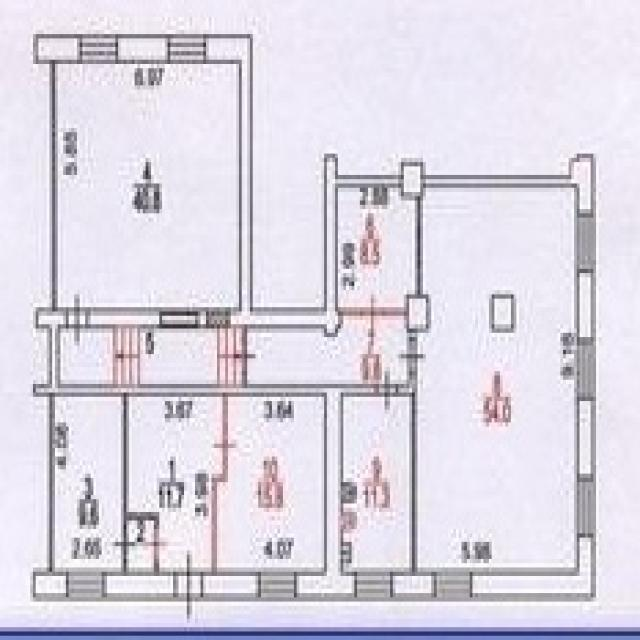Corridors: (248, 319, 405, 381), (142, 330, 216, 381), (61, 330, 111, 382), (130, 522, 153, 565)
Doors: (171, 549, 205, 625), (395, 331, 428, 383), (357, 287, 385, 346), (211, 416, 238, 472), (112, 520, 137, 570), (67, 290, 88, 346), (375, 368, 400, 415), (241, 326, 260, 387), (142, 523, 168, 567), (159, 308, 197, 328)
LBwalls: (198, 63, 345, 338), (296, 395, 356, 603), (471, 538, 598, 604), (105, 567, 173, 600), (205, 570, 260, 604), (569, 151, 596, 216), (576, 402, 595, 476), (32, 33, 79, 62), (119, 33, 166, 62), (206, 34, 253, 63), (393, 570, 434, 603), (31, 568, 67, 604), (86, 308, 158, 326), (576, 275, 597, 336), (490, 293, 517, 333), (399, 157, 425, 198), (405, 292, 431, 333)
Offices: (419, 186, 575, 568), (59, 63, 237, 305), (219, 397, 325, 569), (129, 396, 221, 568), (344, 397, 409, 566), (56, 397, 120, 566), (339, 188, 414, 305)
Stairs: (113, 329, 141, 384), (217, 325, 240, 385)
Walls: (32, 62, 378, 568), (400, 383, 418, 570), (425, 174, 574, 187), (211, 473, 229, 570), (336, 172, 402, 189), (415, 200, 423, 294), (386, 307, 405, 316), (344, 307, 357, 317)
Windows: (576, 338, 597, 400), (259, 568, 296, 601), (67, 568, 104, 601), (435, 569, 470, 603), (576, 477, 596, 536), (576, 217, 596, 274), (79, 34, 118, 63), (168, 35, 206, 64), (356, 573, 392, 601)
